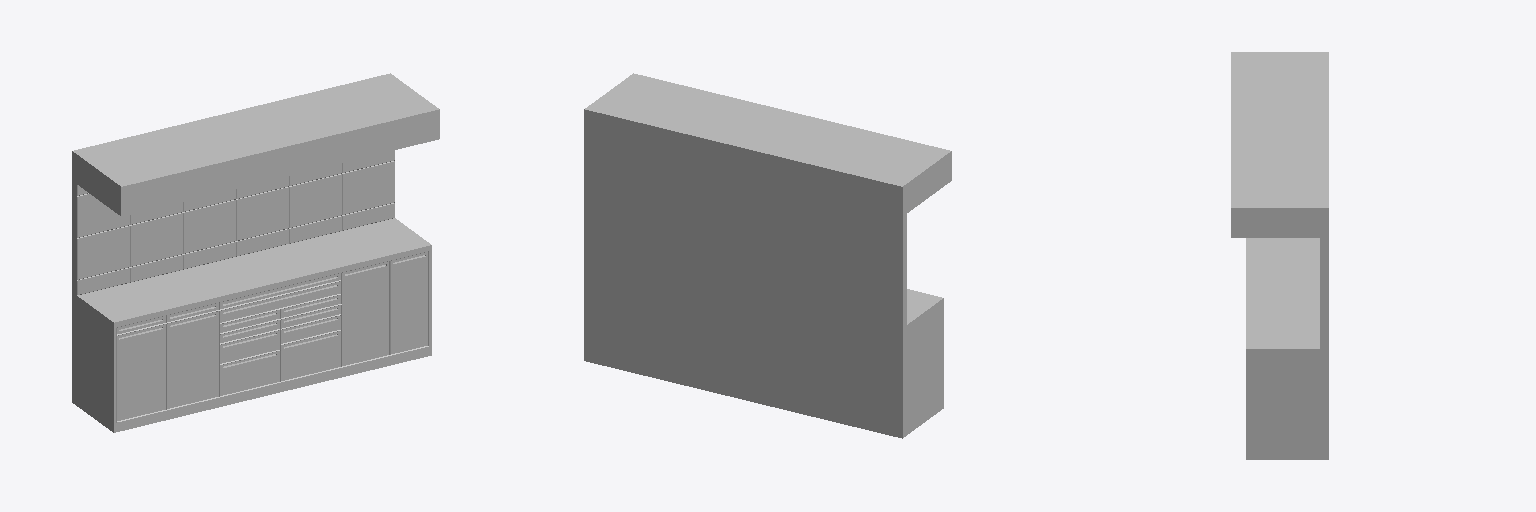
The model's file is MetalWorkbench.obj.
The picture shows the model from 3 angles: view 1: azimuth 30°, elevation 25°; view 2: azimuth 150°, elevation 25°; view 3: azimuth 270°, elevation 25°; orthographic projection.
Visible parts, largest first — view 1: cabinet; view 2: cabinet; view 3: cabinet.
Boxes of the visible parts, x1=… form: cabinet: x1=72, y1=73, x2=439, y2=432; cabinet: x1=584, y1=73, x2=951, y2=438; cabinet: x1=1231, y1=52, x2=1328, y2=459.
Bounding box in the file's own units: 4 × 3.02 × 1.07.